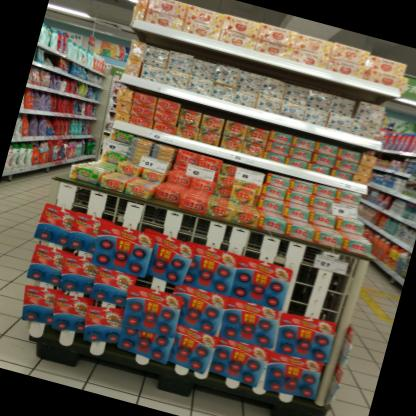empty_space: (284, 245, 359, 324)
